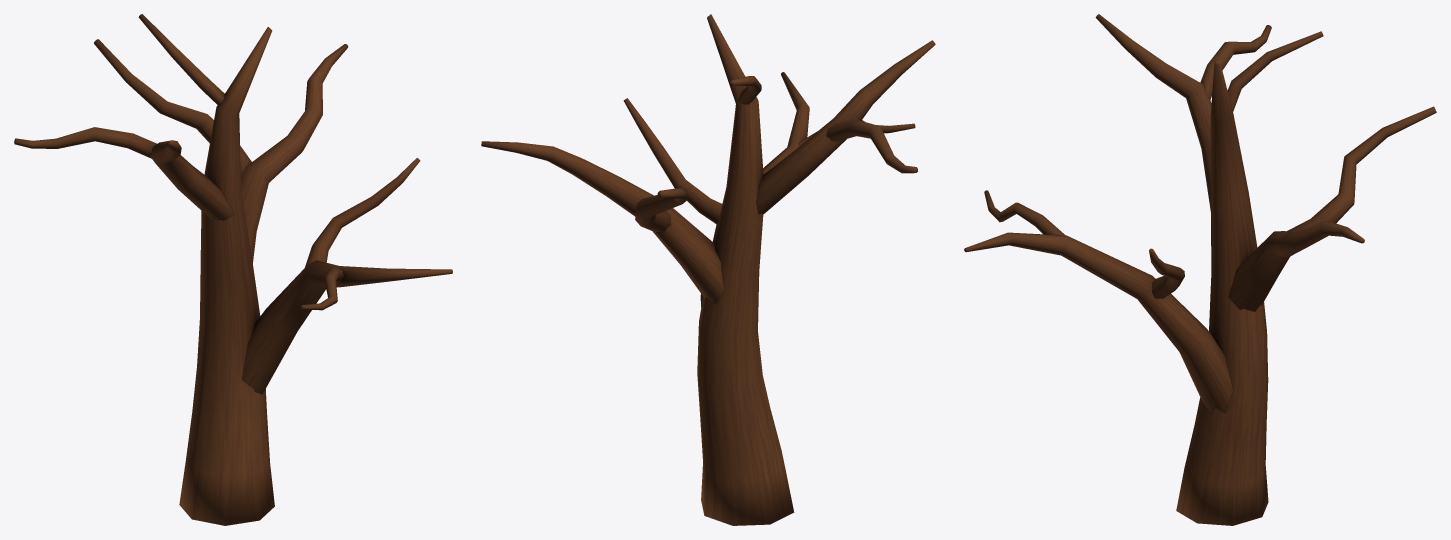
Rendered from DeadTree_Top.fbx.
3 views of the same model, side by side, from view 1: azimuth 30°, elevation 25°; view 2: azimuth 150°, elevation 25°; view 3: azimuth 270°, elevation 25° (orthographic). The views are drawn at different scales.
Visible parts, largest first — view 1: Tree_Dead_Top; view 2: Tree_Dead_Top; view 3: Tree_Dead_Top.
Part boxes in pixels (<box>): Tree_Dead_Top: <box>14,14,452,525</box>; Tree_Dead_Top: <box>481,14,935,525</box>; Tree_Dead_Top: <box>964,14,1436,525</box>.
Size of the model in its own units: 193 by 229 by 211.
1 material, 1 textured.
